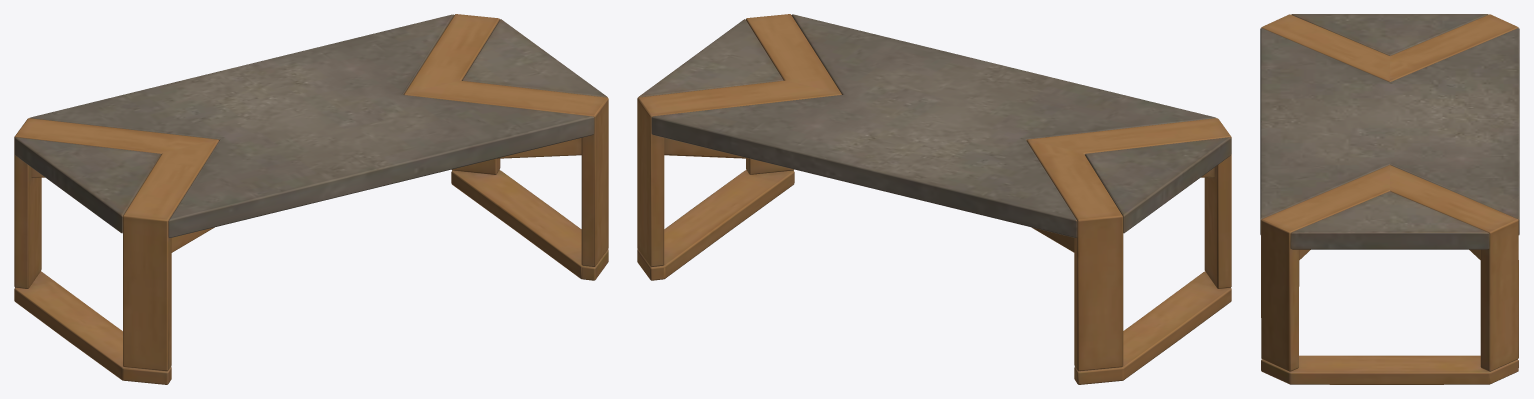
File: coffee-table.glb
3 views of the same model, side by side, from view 1: azimuth 30°, elevation 25°; view 2: azimuth 150°, elevation 25°; view 3: azimuth 270°, elevation 25° (orthographic). The views are drawn at different scales.
Parts seen in each view (by area): view 1: modern_coffee_table_01; view 2: modern_coffee_table_01; view 3: modern_coffee_table_01.
Boxes of the visible parts, left/top/right/bottom form: modern_coffee_table_01: left=14, top=14, right=608, bottom=384; modern_coffee_table_01: left=637, top=14, right=1231, bottom=384; modern_coffee_table_01: left=1260, top=14, right=1519, bottom=384.
Bounding box in the file's own units: 1.2 × 0.39 × 0.5999.
Materials: 1 (1 with a texture image).
